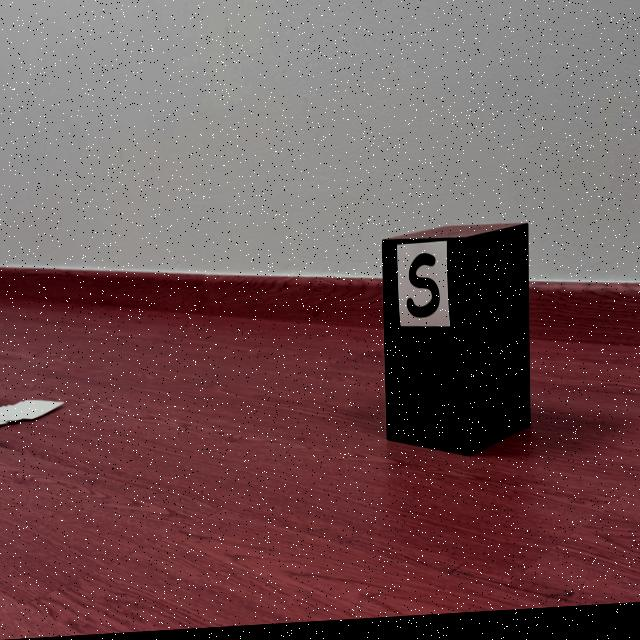S: (406, 258, 440, 322)
